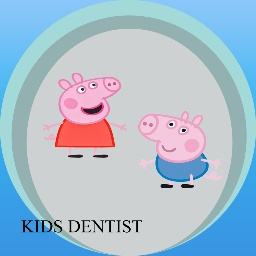Peppa: (41, 72, 129, 159)
